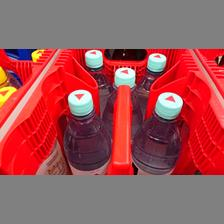Wasser: (131, 92, 186, 172), (60, 87, 110, 173)
